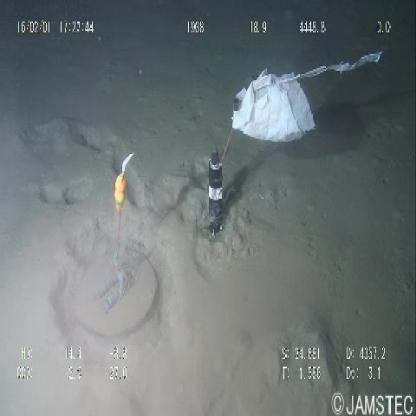Rov: (79, 144, 229, 332)
Rác: (228, 44, 385, 150)
